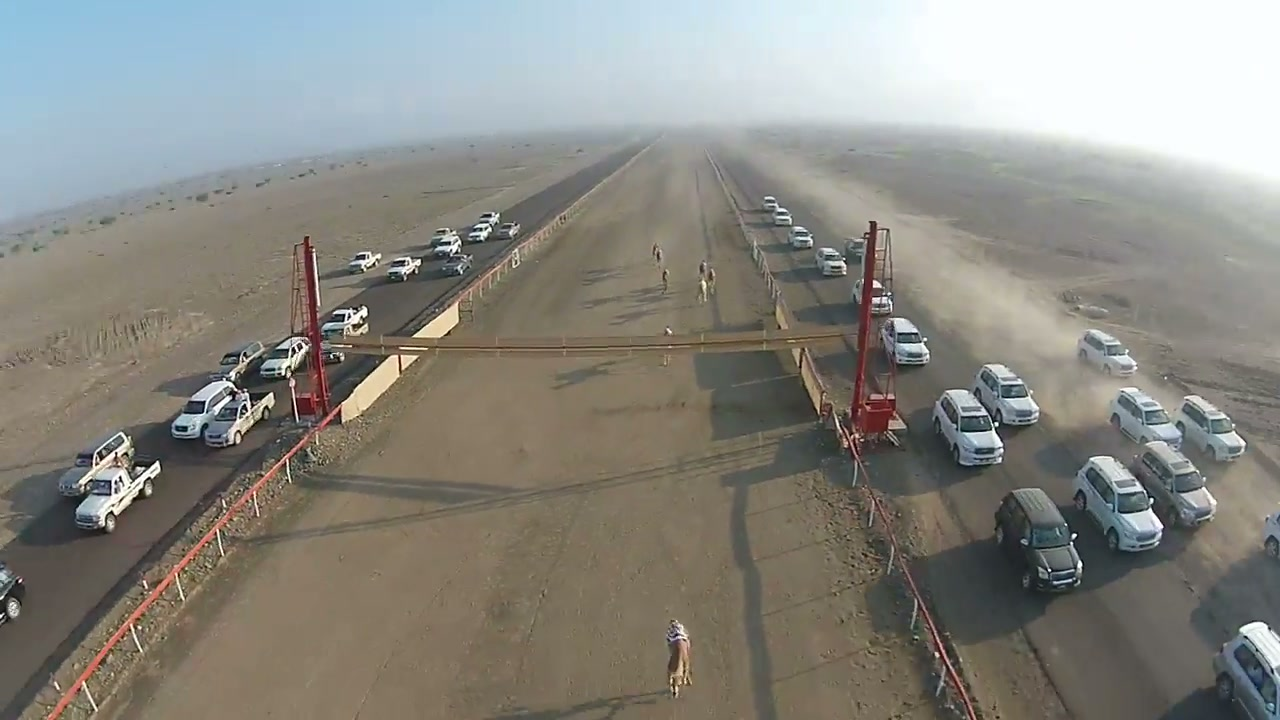animal_foot_print: (776, 438, 944, 715)
